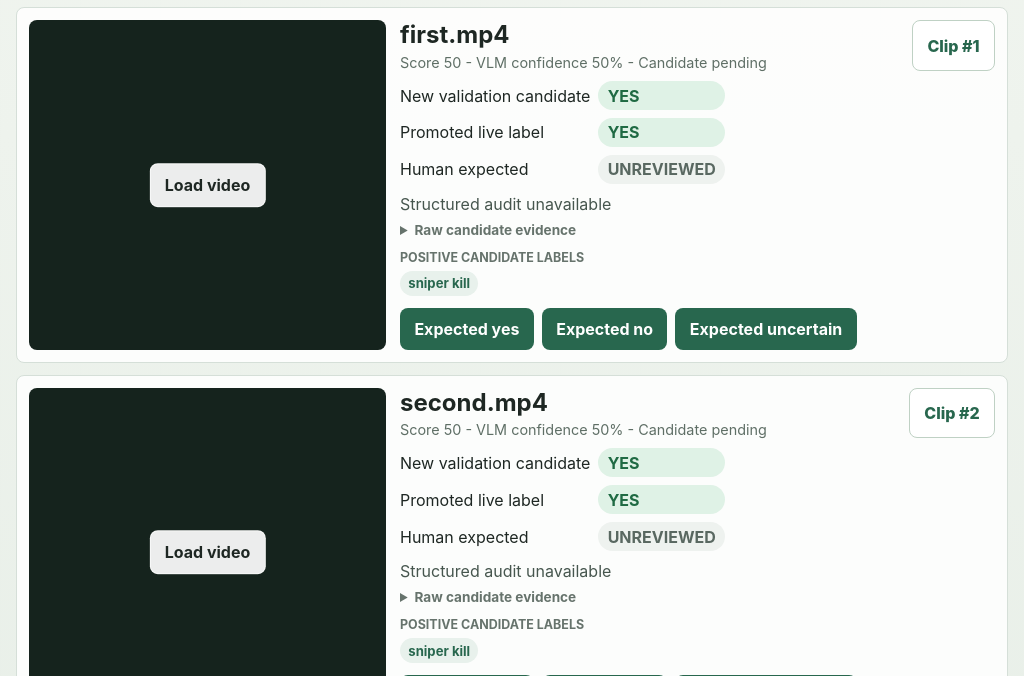
Test: EvalDashboard request ordering › serializes overlapping reviews so both cards commit in server order
(page scrolled)
expect the text "first.mp4" is shown: met, box [400,20,510,49]
expect the text "second.mp4" is shown: met, box [400,388,548,417]
Click the button "Expected yes" below "first.mp4" at (467, 329), box [400,308,534,350]
(page scrolled)
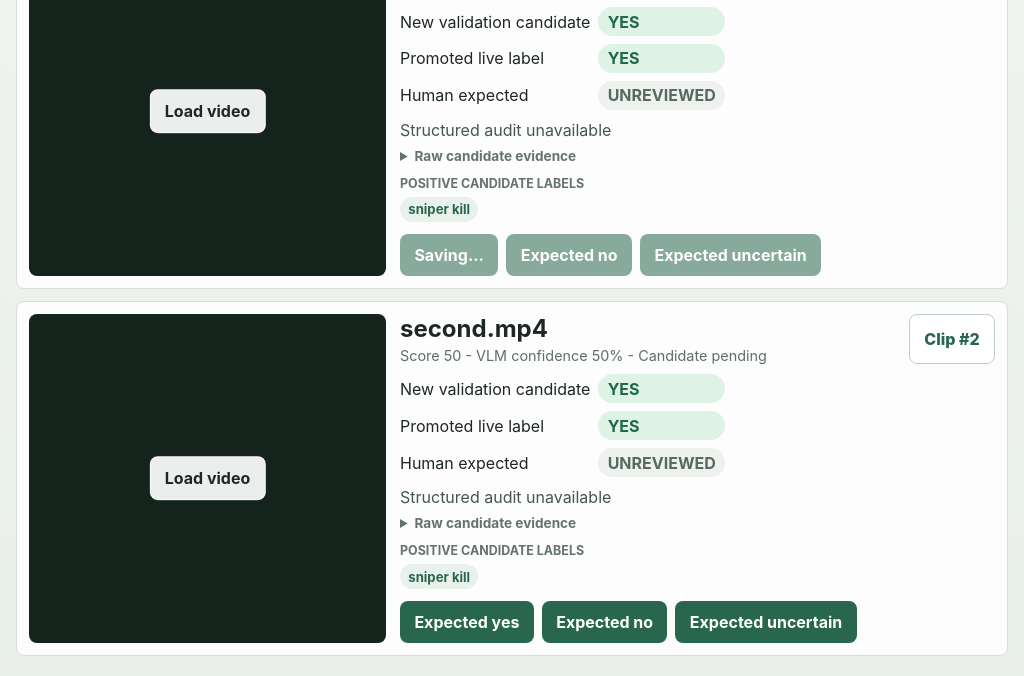
Click the button "Expected no" below "second.mp4" at (605, 622), box [542,601,668,643]
(page scrolled)
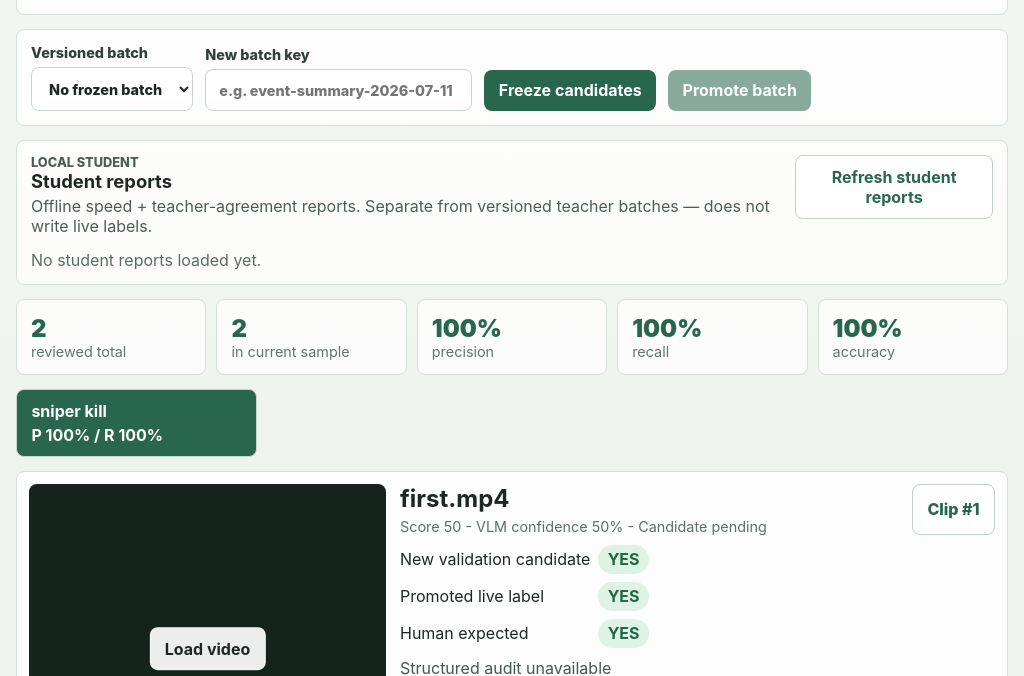
expect the 1st text "2" is shown: met, box [31,314,46,343]
